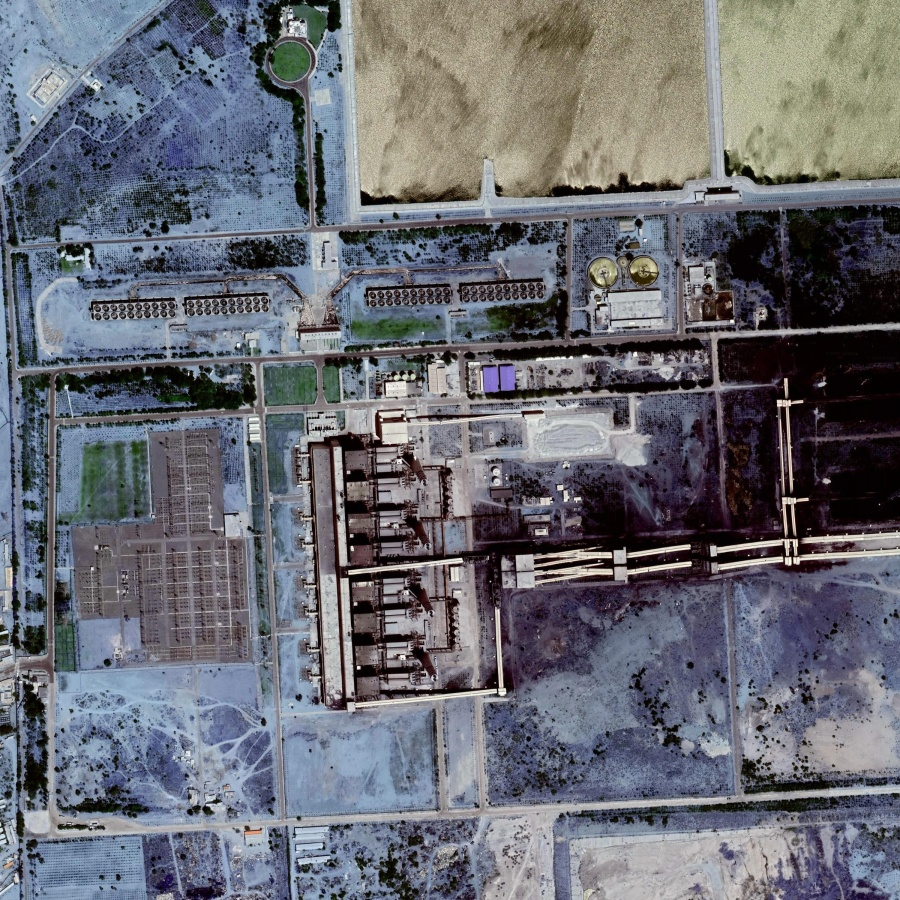PowerPlant: (303, 414, 502, 699)
